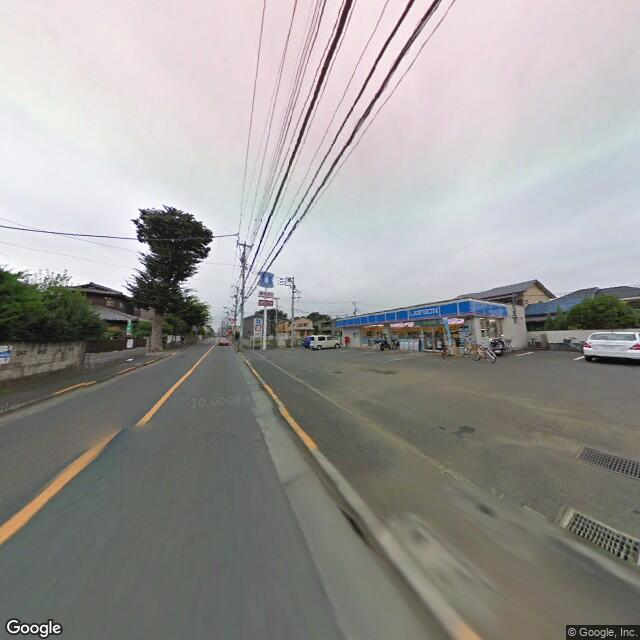lawson: (334, 291, 508, 329), (259, 266, 277, 291)
